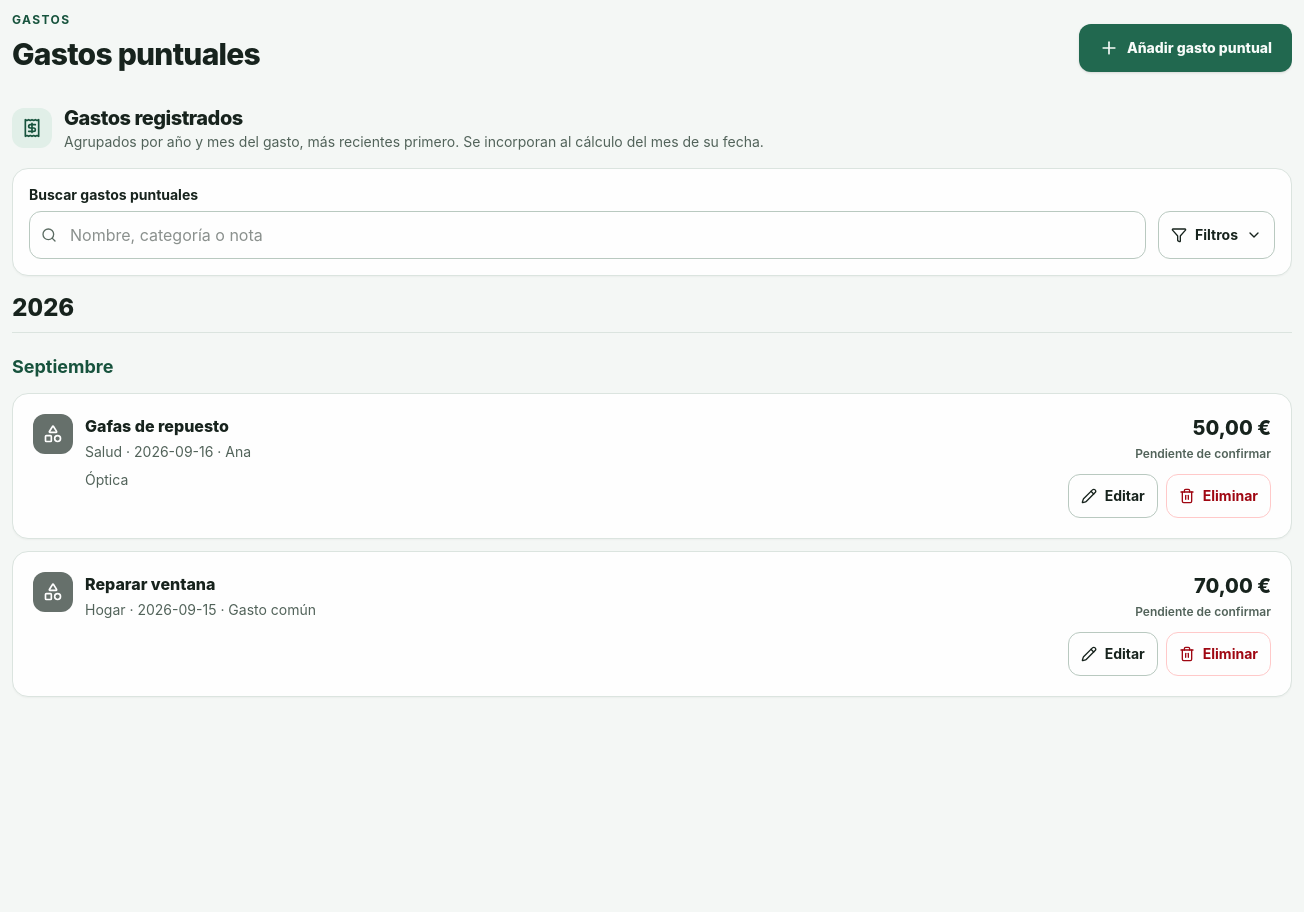
it: OneTimeExpensesPage: filtros compartidos › muestra un único buscador con panel cerrado y filtra por ámbito y categoría
Expected: the number of search fields is 1, [29,211,1146,259]
Click the button "Filtros" at [1217, 235], box [1158,211,1275,259]
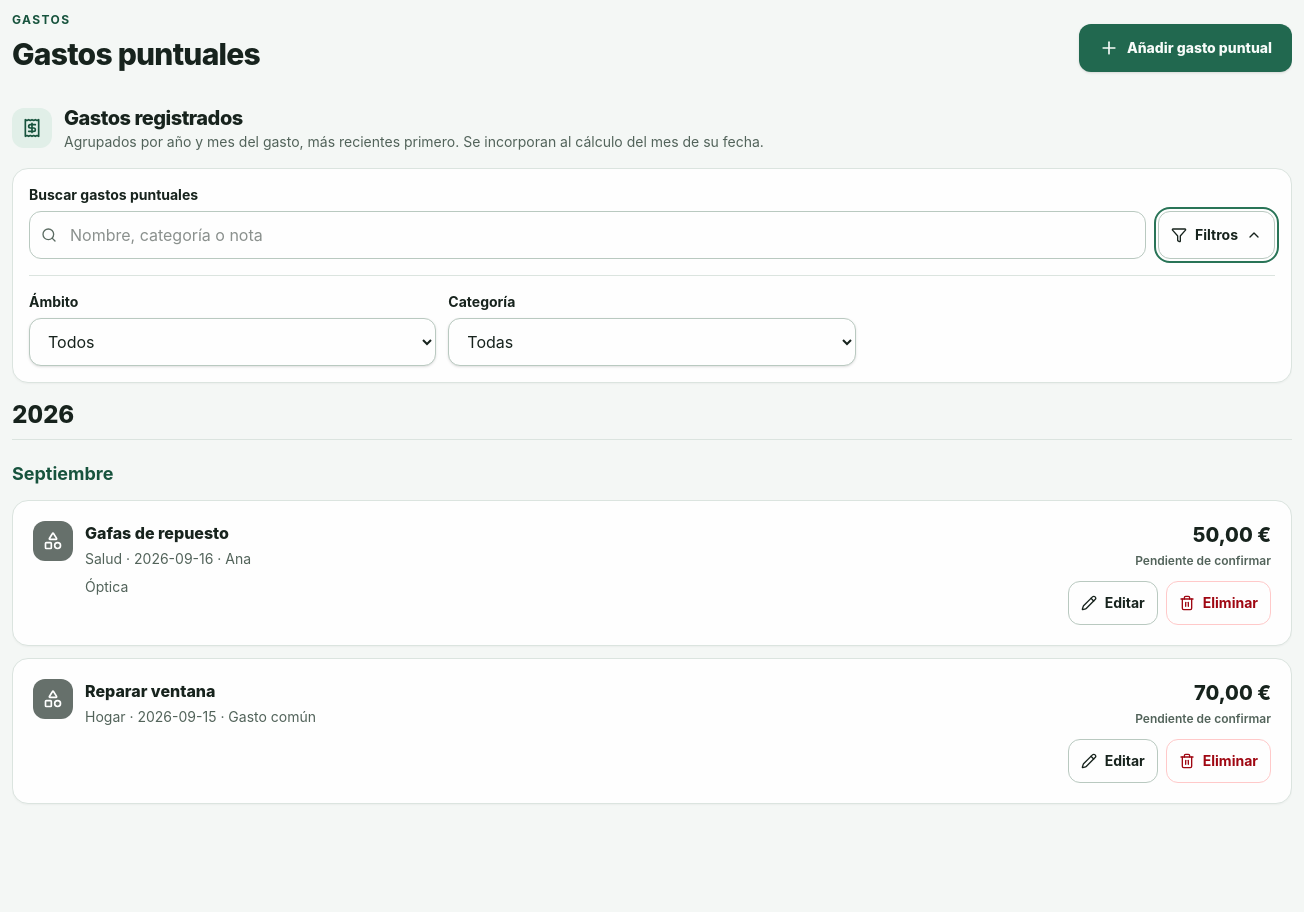
Select "Personales" in the dropdown labelled "Ámbito" at [233, 342], box [29,318,436,366]
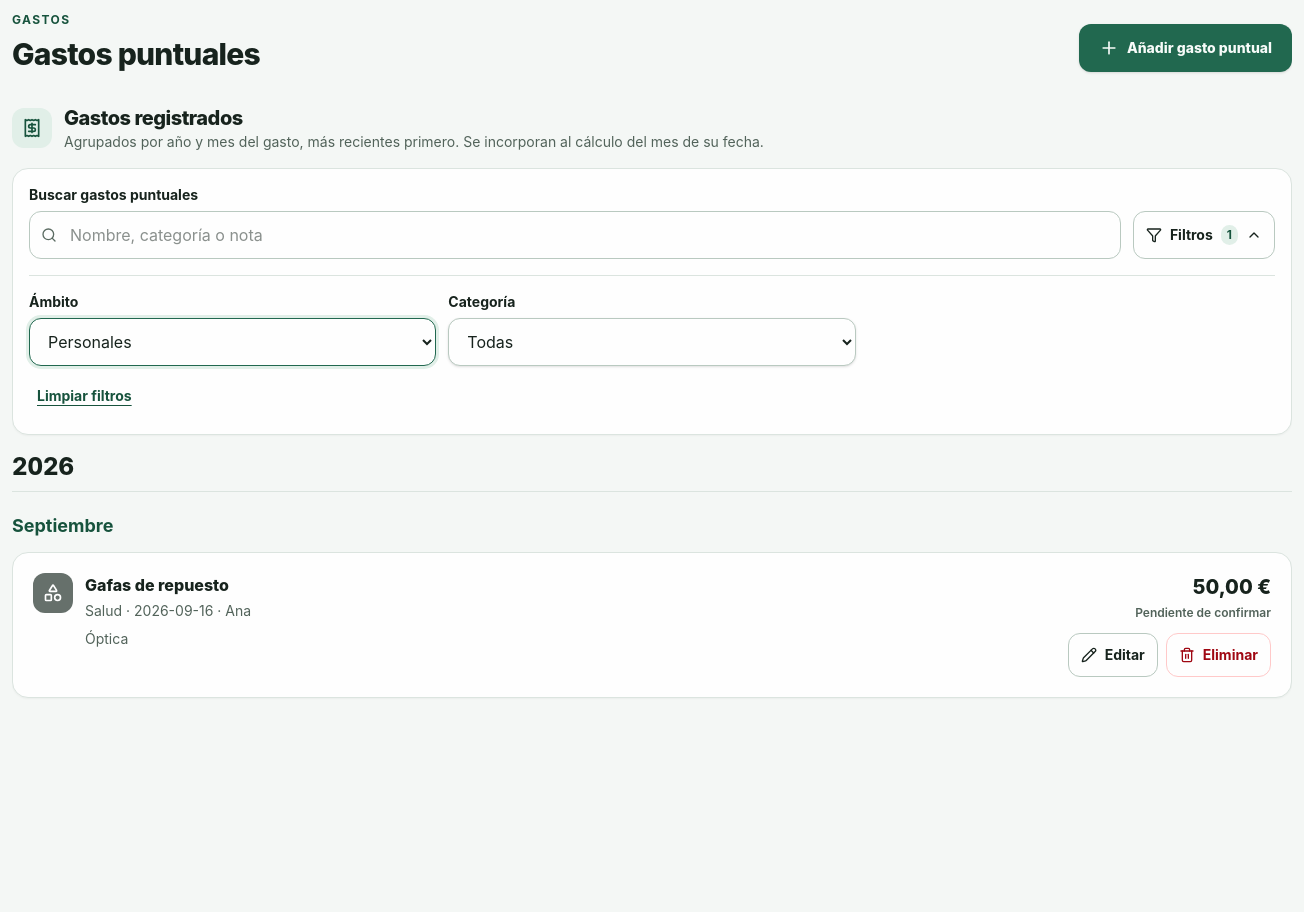
Select "Salud" in the dropdown labelled "Categoría" at [652, 342], box [448,318,856,366]
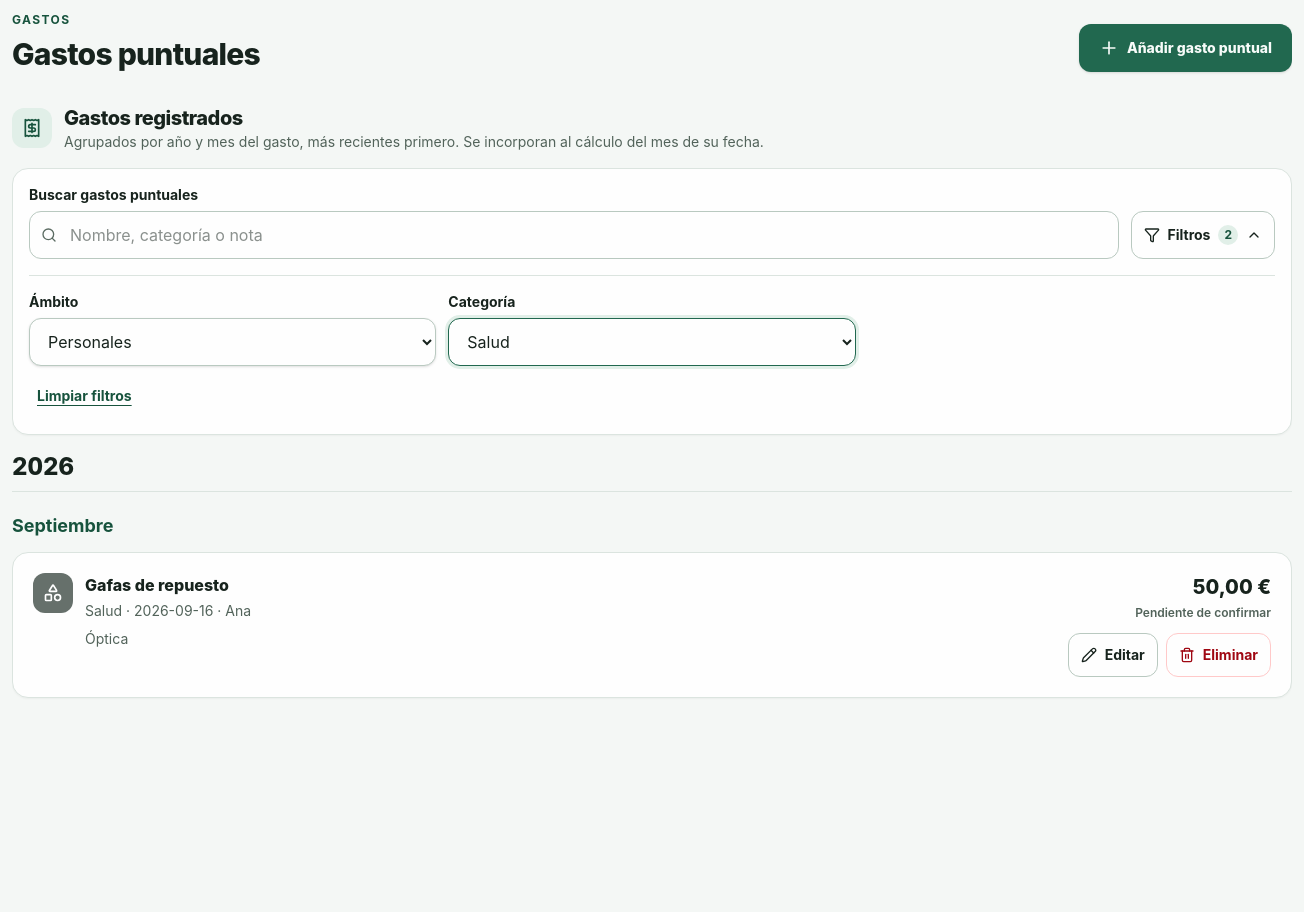
Expected: the heading "Gafas de repuesto" is shown, [85,573,251,597]
Expected: the heading "Reparar ventana" is not shown
Click the button named "Filtros 2 activos" at [1203, 235], box [1130,211,1275,259]
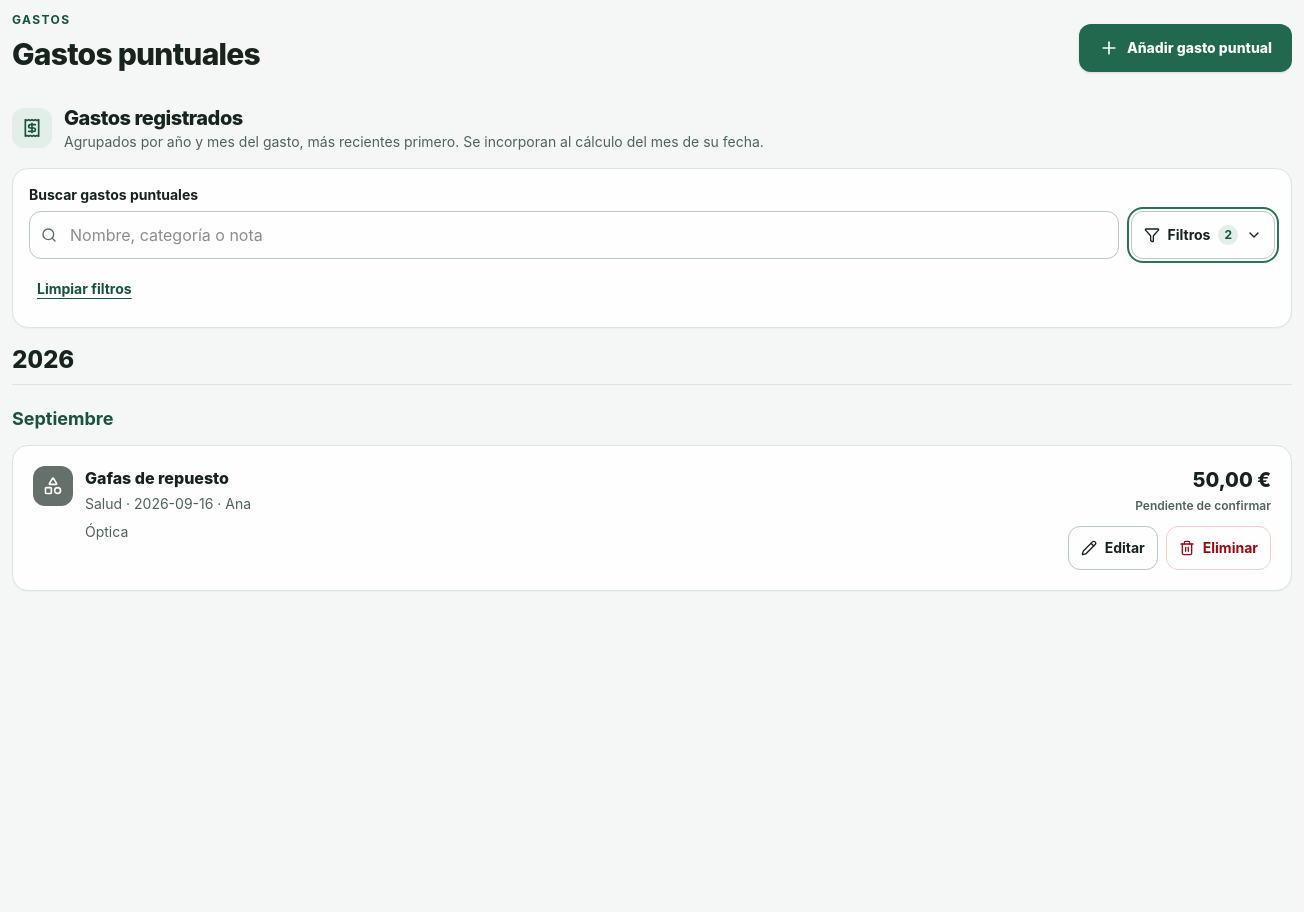
Click the button "Limpiar filtros" at [84, 289], box [29,267,140,311]
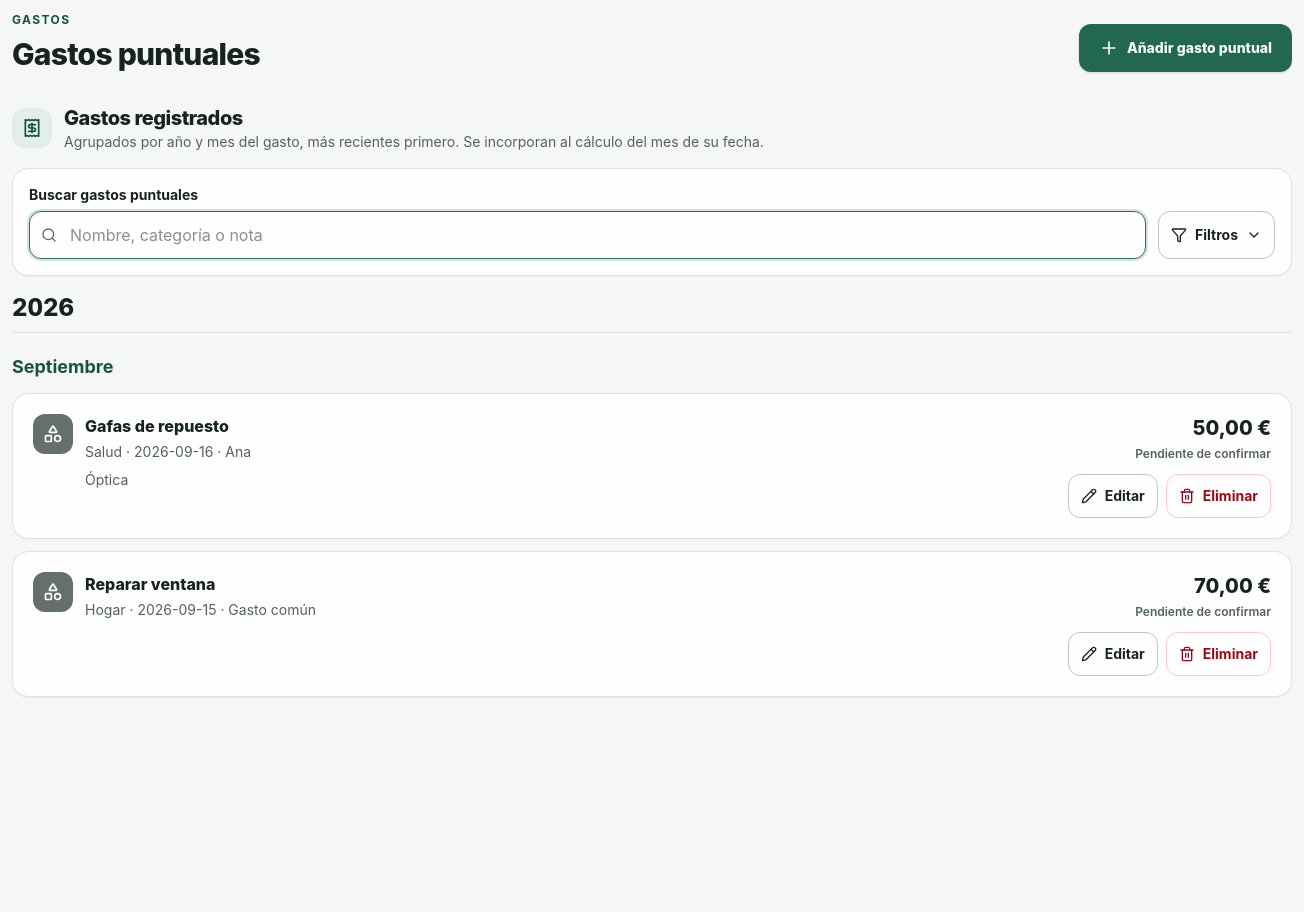
Expected: the heading "Gafas de repuesto" is shown, [85,414,251,438]
Now the heading "Reparar ventana" is shown, box [85,574,215,594]
